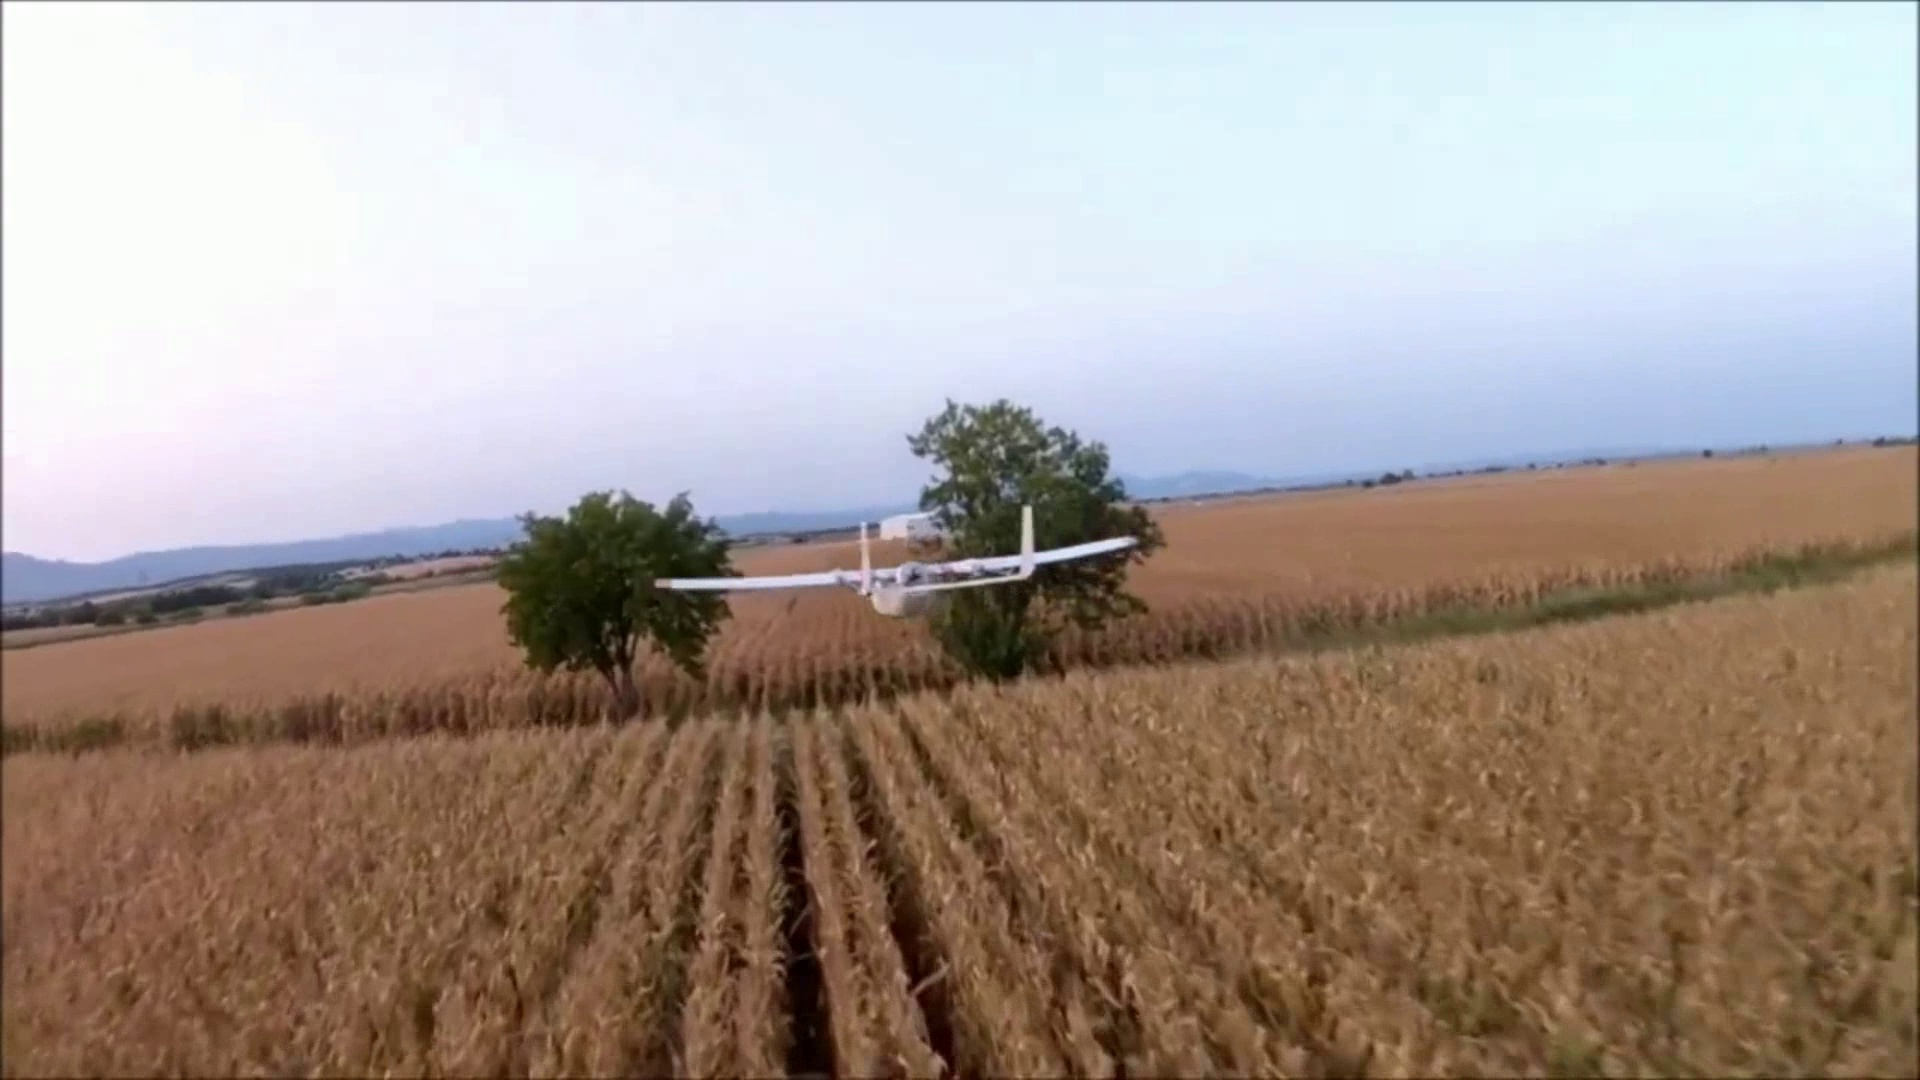airplane: (654, 526, 1154, 621)
